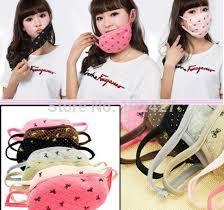OK: (183, 7, 213, 39)
WRONG: (94, 12, 127, 45), (24, 11, 52, 38)
